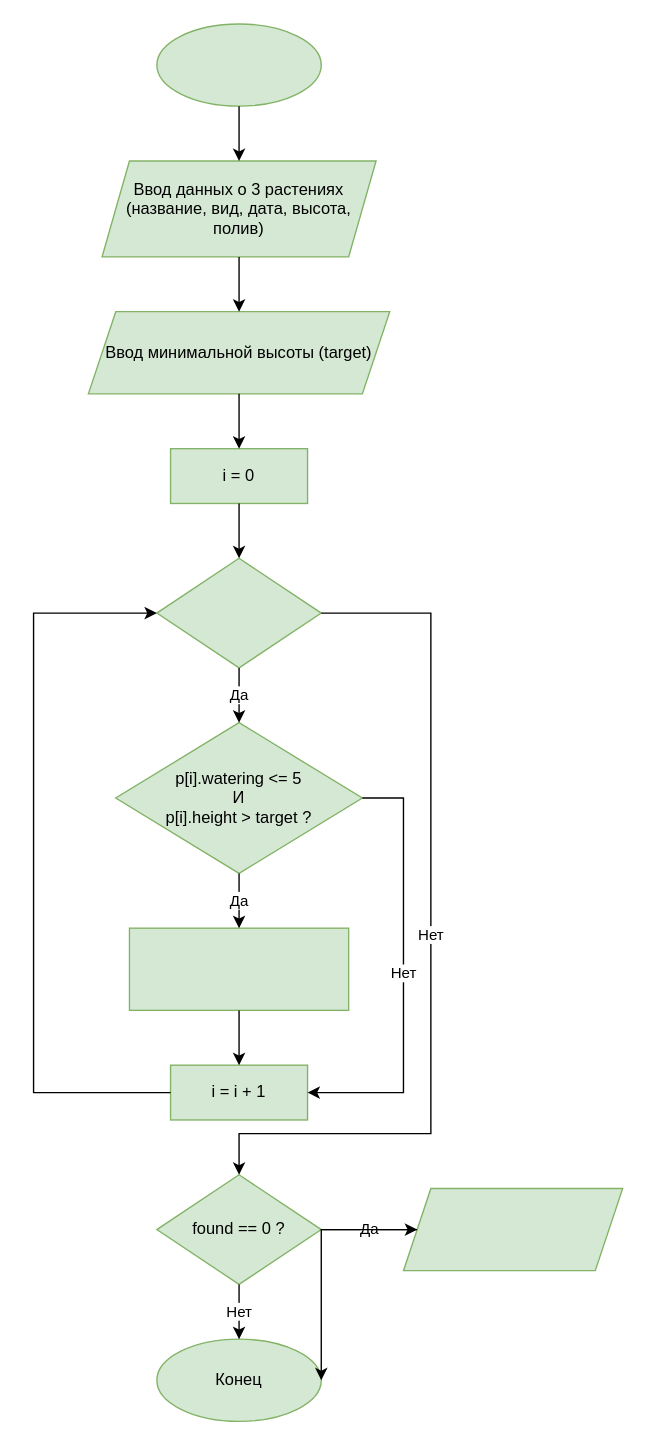
The diagram is 647 pixels wide and 1445 high, and some of its shapes have lost their labels. Here are the shapes that lost their labels. From the top down, the box of each, then its label:
(155, 23, 321, 106): Начало
(155, 557, 321, 668): i < 3 ?
(128, 927, 349, 1010): Вывод данных растения found = 1
(402, 1187, 623, 1271): Вывод: "Таких растений нет"
